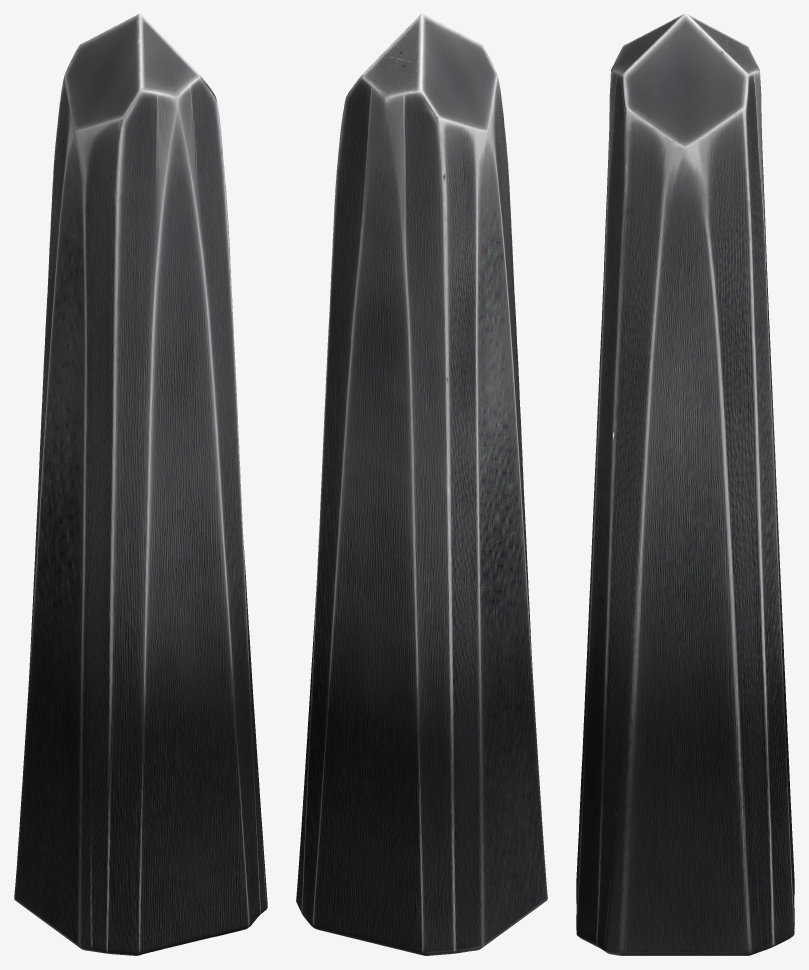
File: about-monolith.glb
3 renders of one model, left to right at view 1: azimuth 30°, elevation 25°; view 2: azimuth 150°, elevation 25°; view 3: azimuth 270°, elevation 25°, orthographic.
Visible parts, largest first — view 1: Mesh_0; view 2: Mesh_0; view 3: Mesh_0.
Boxes of the visible parts, box(x1,y1,x2,y2) form: Mesh_0: box(14, 14, 267, 955); Mesh_0: box(296, 14, 547, 955); Mesh_0: box(576, 14, 794, 955).
Size of the model in its own units: 0.4204 by 1.91 by 0.4204.
Materials: 1 (1 with a texture image).
